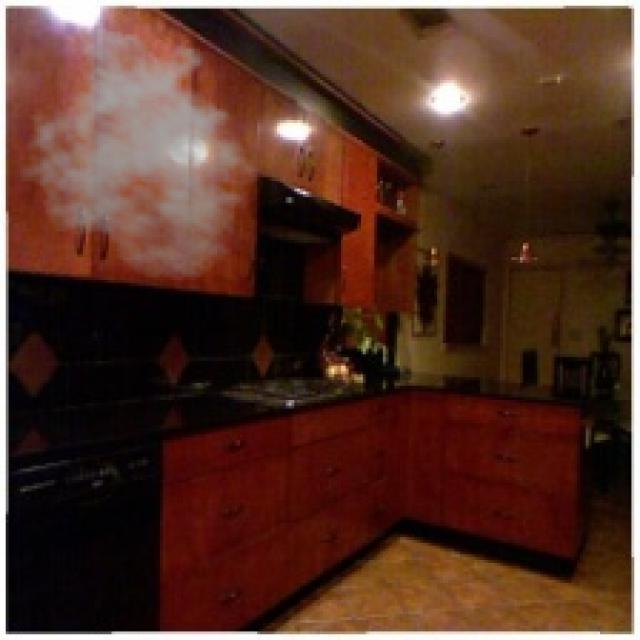Smoke: (17, 26, 272, 283)
